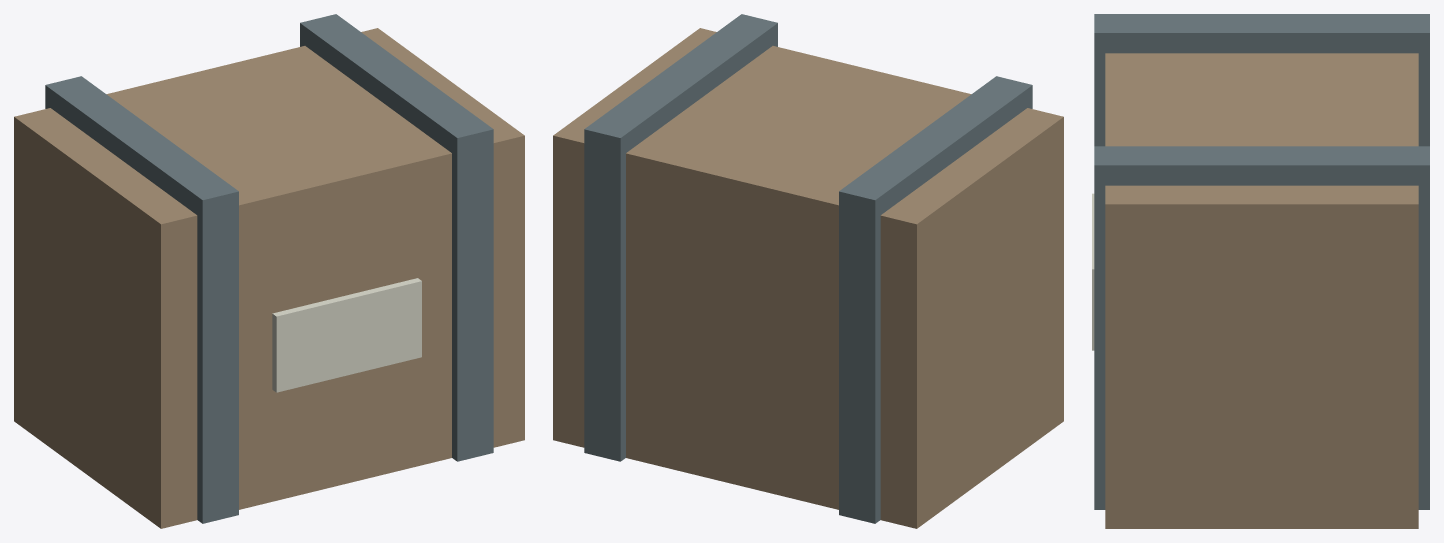
File: zombie-quarantine-streets-sealed-supply-crate-e2af1a24__19359.glb
The picture shows the model from 3 angles, left to right: view 1: azimuth 30°, elevation 25°; view 2: azimuth 150°, elevation 25°; view 3: azimuth 270°, elevation 25°; orthographic projection. The views are drawn at different scales.
Parts seen in each view (by area): view 1: sealed-supply-crate; view 2: sealed-supply-crate; view 3: sealed-supply-crate.
Boxes of the visible parts, <box> form: sealed-supply-crate: <box>14,14,524,528</box>; sealed-supply-crate: <box>553,14,1063,528</box>; sealed-supply-crate: <box>1092,14,1429,528</box>.
Size of the model in its own units: 1 by 0.85 by 0.755.
